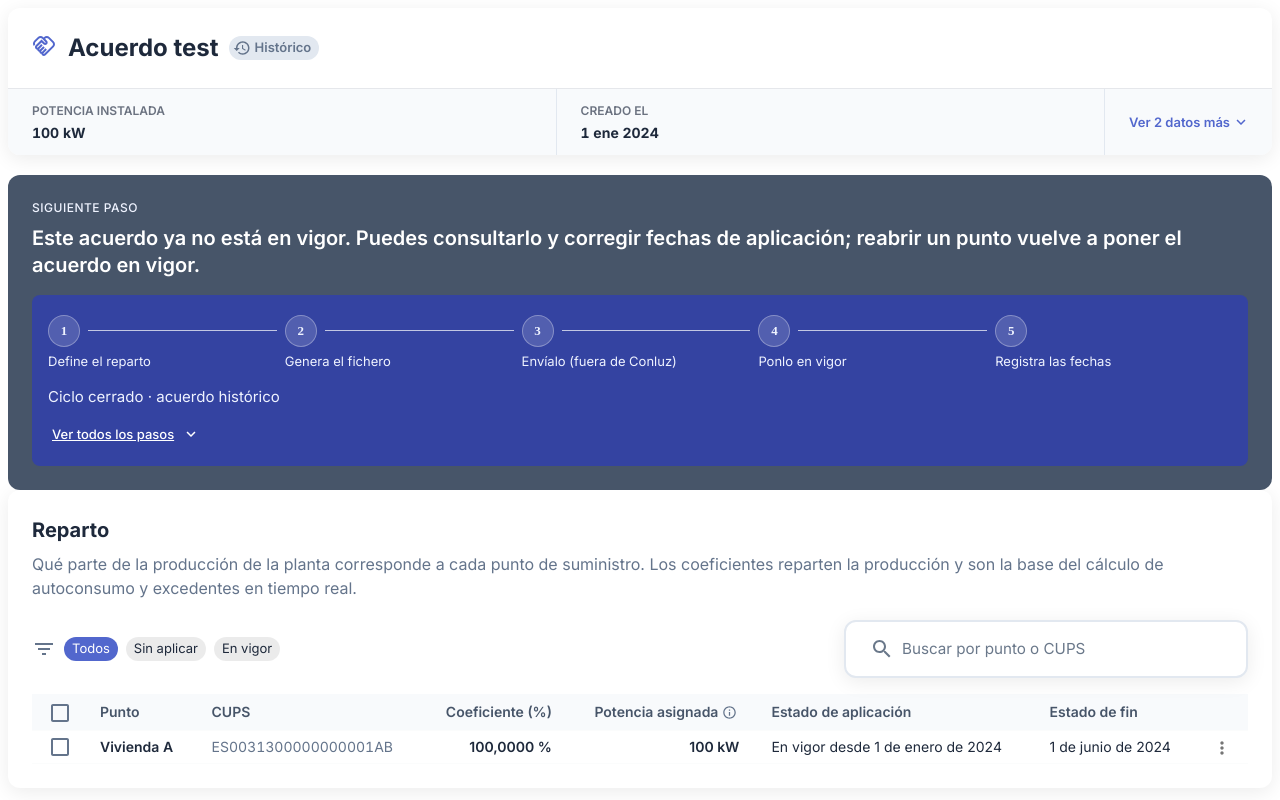
it: Reopen coefficient — real cache invalidation drives a real refetch (no manual refresh) › flips the status chip from Histórico to Vigente after reopen resolves, with no manual refresh
Expected: the text "Histórico" is shown, top-left (254, 39), bottom-right (311, 55)
Click the button named "Más acciones para Vivienda A": (1222, 748) top-left (1212, 738), bottom-right (1232, 758)
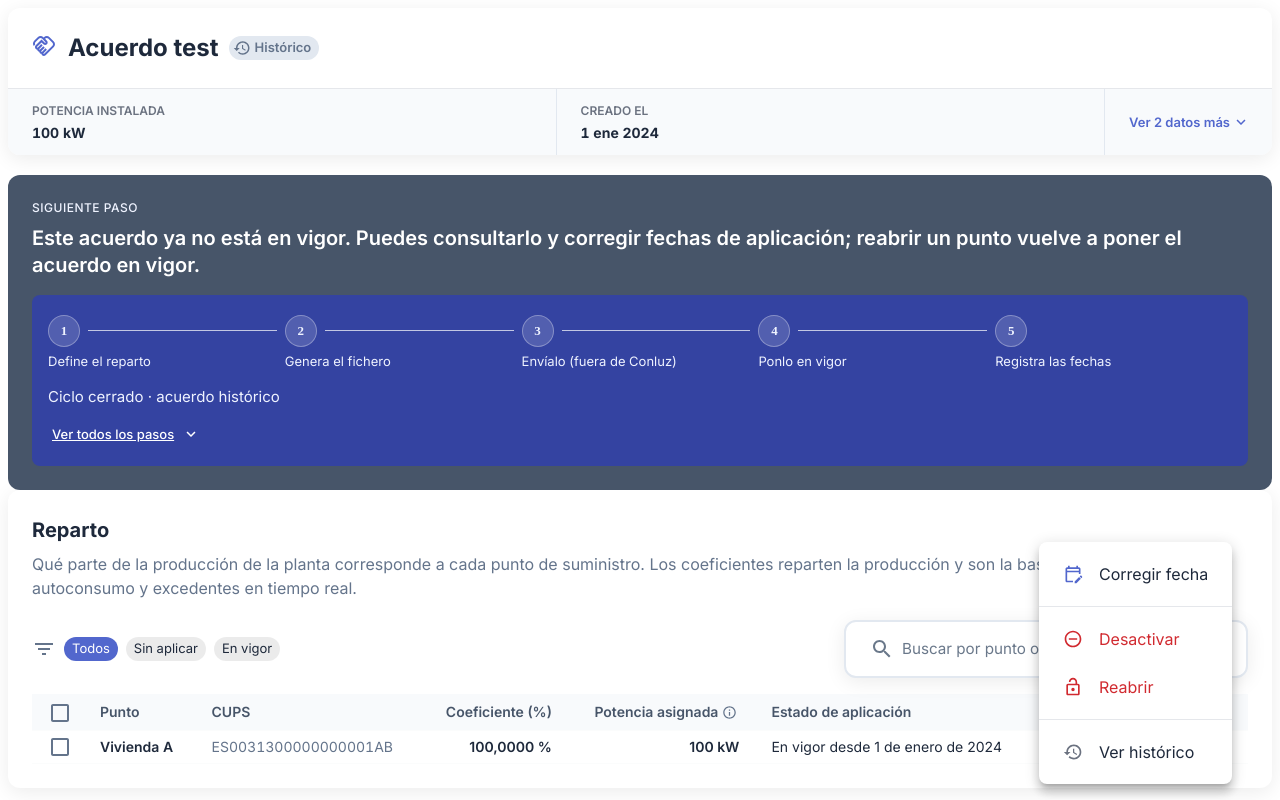
Click the menu item "Reabrir": (1108, 687) top-left (1063, 677), bottom-right (1153, 697)
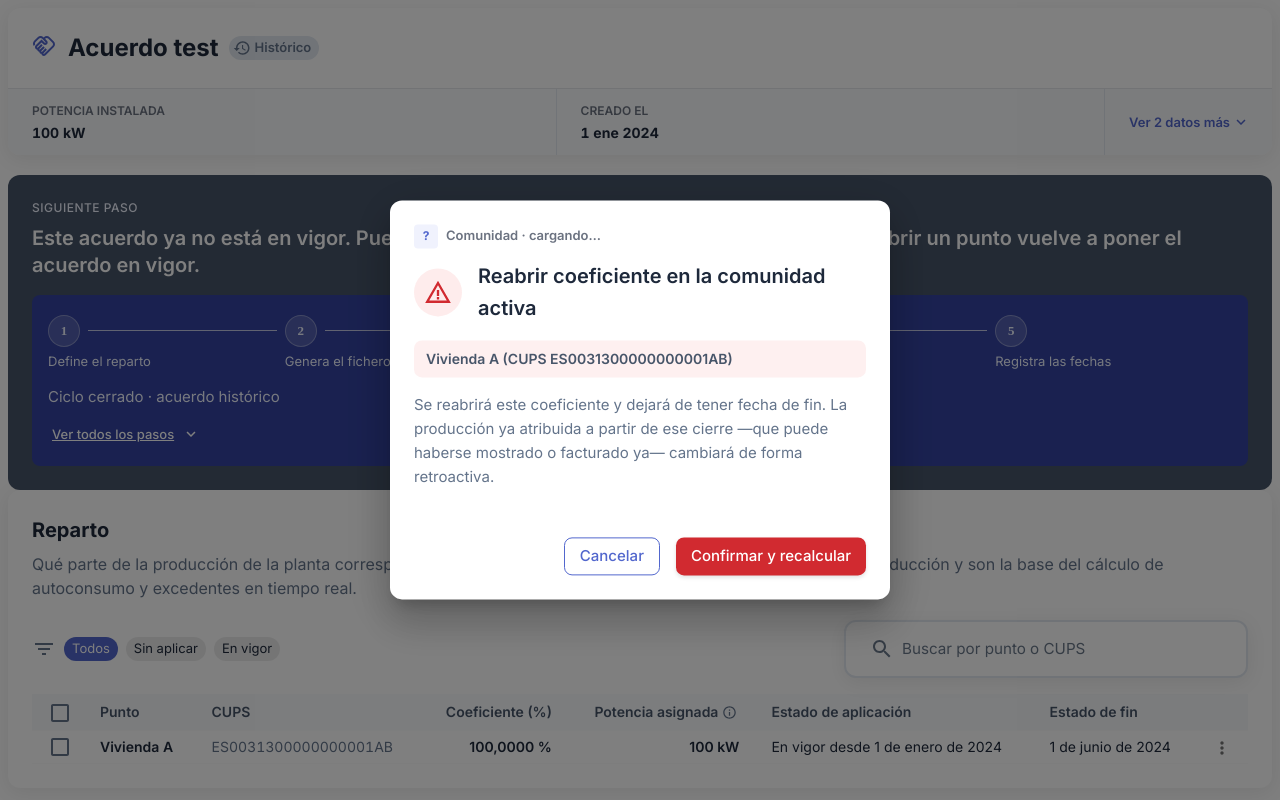
Click the button "Confirmar y recalcular": (771, 557) top-left (676, 537), bottom-right (866, 576)
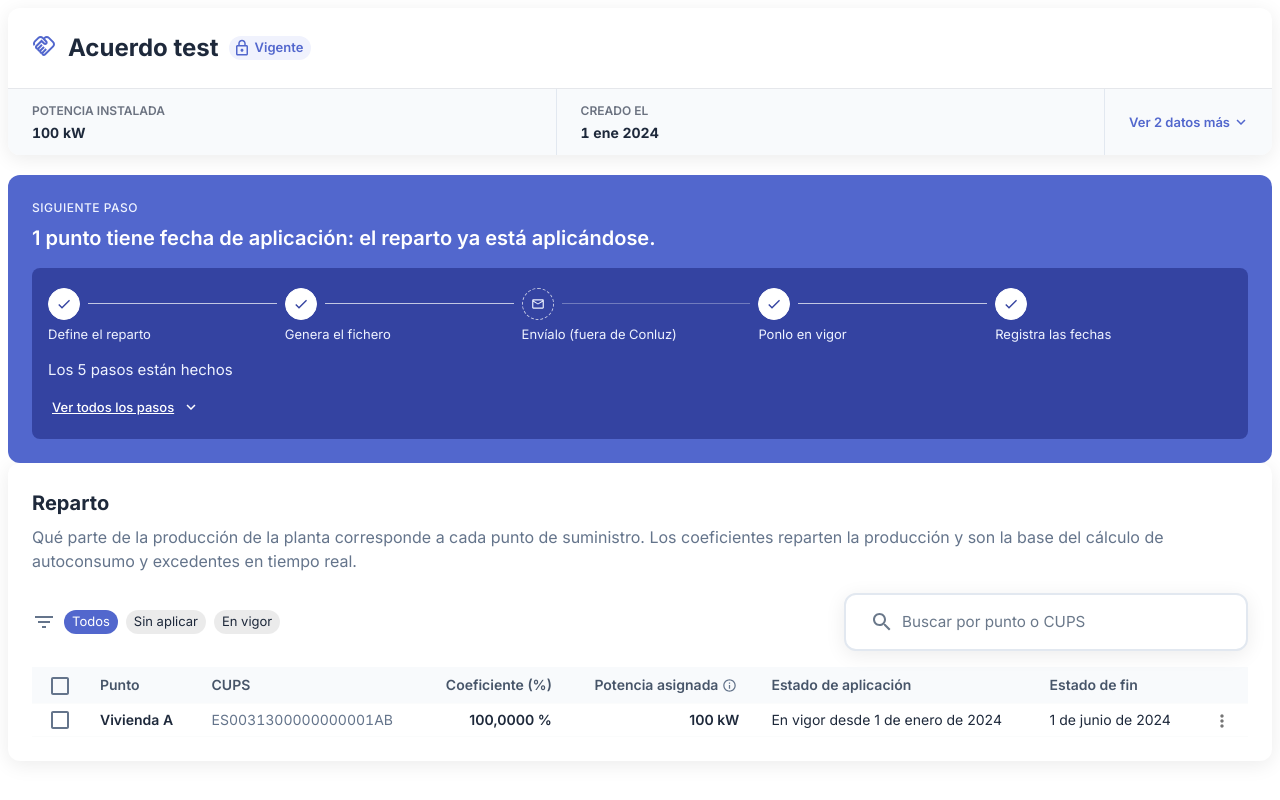
Expected: the text "Vigente" is shown, top-left (254, 39), bottom-right (303, 55)
Expected: the text "Histórico" is gone
